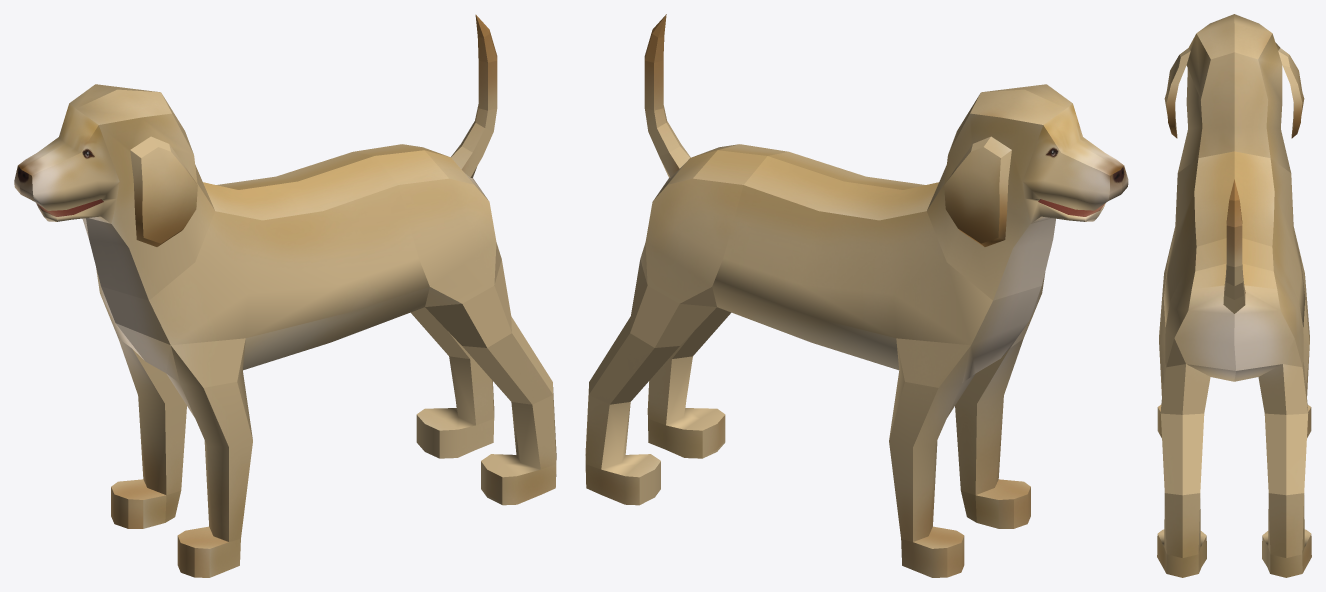
Rendered from dog.fbx.
The picture shows the model from 3 angles, left to right: view 1: azimuth 30°, elevation 25°; view 2: azimuth 150°, elevation 25°; view 3: azimuth 270°, elevation 25°; orthographic projection. The views are drawn at different scales.
Visible parts, largest first — view 1: pCone3; view 2: pCone3; view 3: pCone3.
Part boxes in pixels (<box>): pCone3: <box>14,14,556,577</box>; pCone3: <box>585,14,1128,577</box>; pCone3: <box>1157,14,1311,577</box>.
Size of the model in its own units: 8.53 by 7.55 by 2.71.
1 material, 1 textured.
